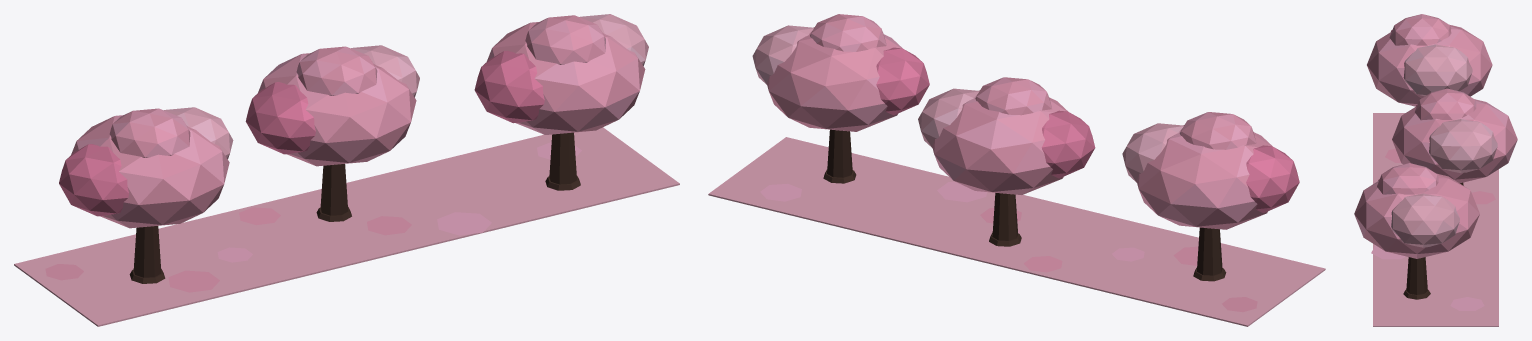
Rendered from Decor_NinjaDojo_Cherry.fbx.
3 views of the same model, side by side, from view 1: azimuth 30°, elevation 25°; view 2: azimuth 150°, elevation 25°; view 3: azimuth 270°, elevation 25° (orthographic). The views are drawn at different scales.
Parts seen in each view (by area): view 1: Cherry_Body; view 2: Cherry_Body; view 3: Cherry_Body.
Part boxes in pixels (left/top/right/bottom): Cherry_Body: left=14, top=14, right=679, bottom=326; Cherry_Body: left=708, top=14, right=1325, bottom=326; Cherry_Body: left=1354, top=14, right=1517, bottom=326.
Bounding box in the file's own units: 40 × 11.4 × 13.
